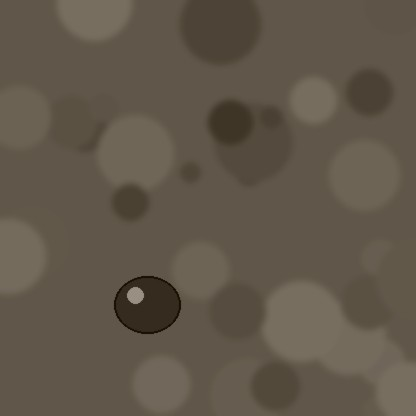gota: (114, 278, 180, 338)
